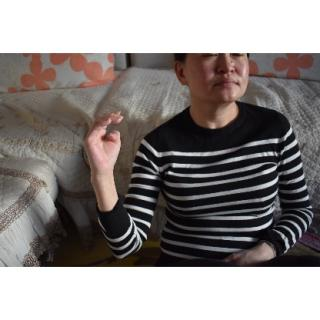JEEM: (80, 104, 130, 183)
